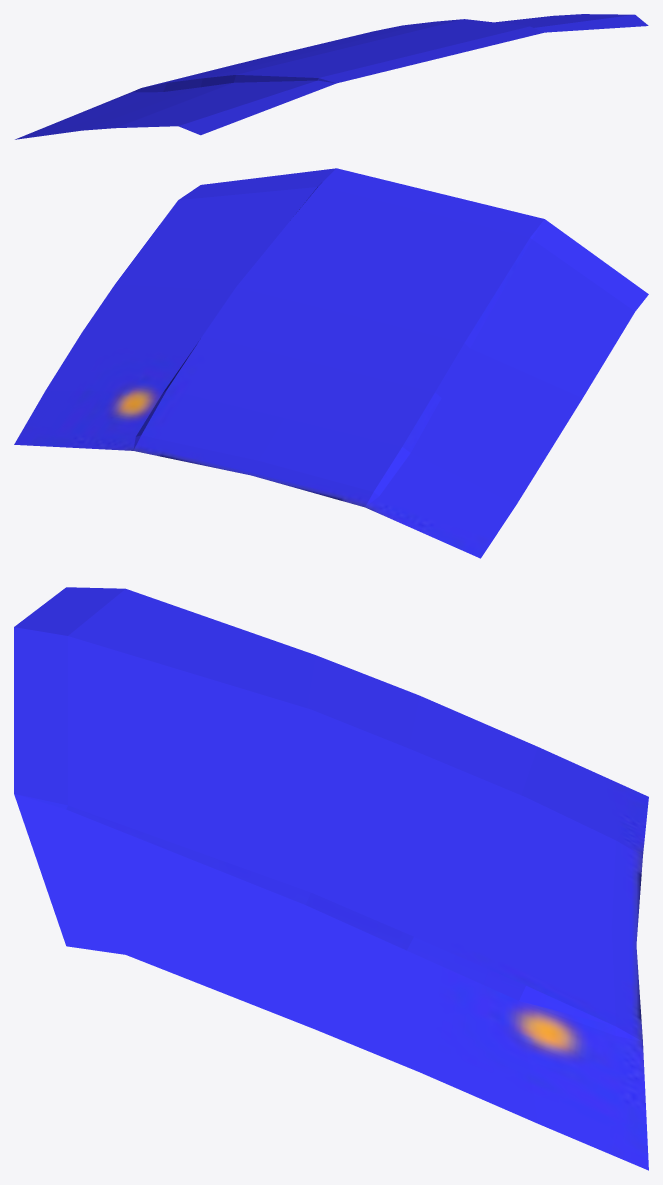
The model's file is hood7.obj.
The picture shows the model from 3 angles, top to bottom: view 1: azimuth 30°, elevation 25°; view 2: azimuth 150°, elevation 25°; view 3: azimuth 270°, elevation 25°; orthographic projection. The views are drawn at different scales.
Visible parts, largest first — view 1: hood; view 2: hood; view 3: hood.
Boxes of the visible parts, box(x1,y1,x2,y2) form: hood: box(15, 14, 648, 139); hood: box(14, 168, 648, 558); hood: box(14, 587, 648, 1170).
Size of the model in its own units: 1.09 by 0.3696 by 0.7781.
